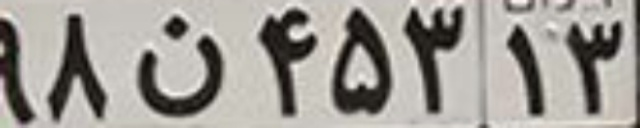1: (506, 24, 548, 115)
3: (404, 4, 471, 112), (565, 20, 625, 113)
4: (255, 6, 320, 118)
5: (331, 7, 392, 113)
8: (47, 13, 107, 119)
9: (0, 16, 25, 123)
non: (136, 14, 228, 116)
